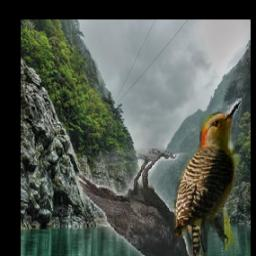Crow: (75, 150, 201, 256)
Woodpecker: (175, 98, 243, 256)
